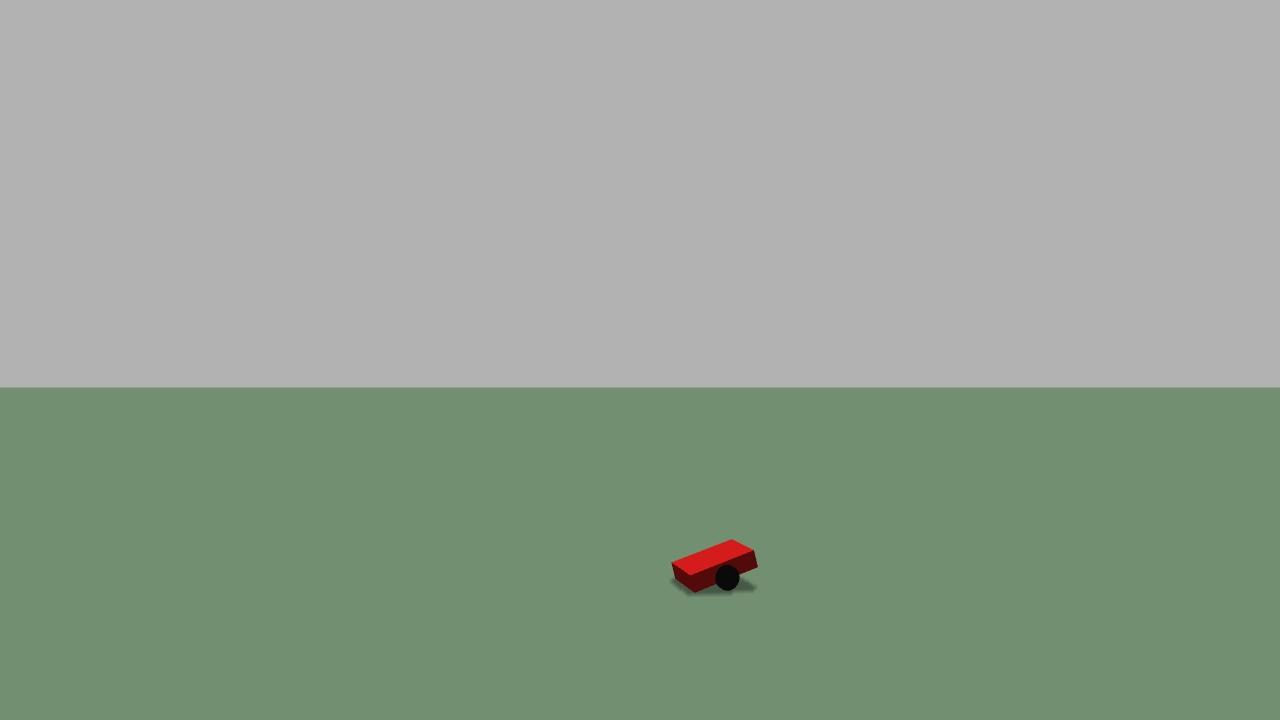ground_vehicle: (660, 531, 769, 608)
